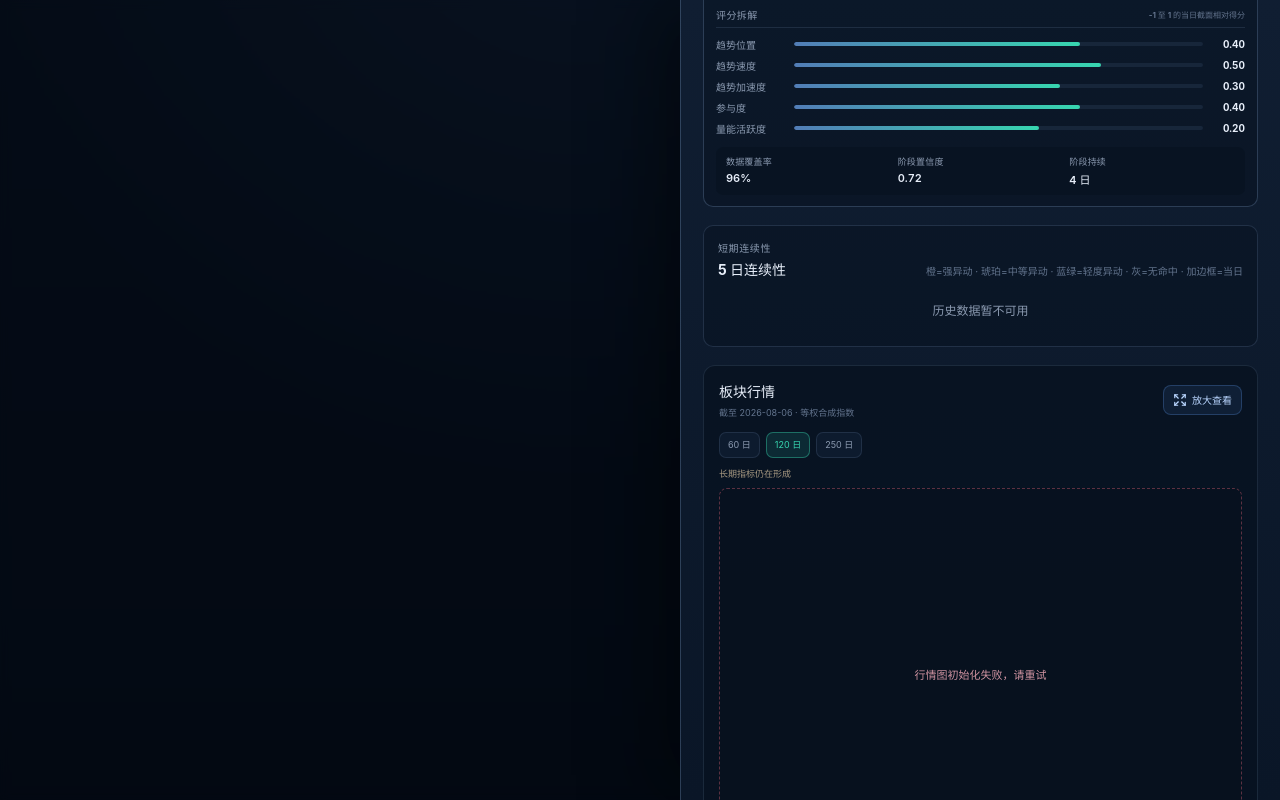
Test: SectorDetailDrawer K 线组合 › 真实卡片将同一份缓存响应交给 Portal 弹窗，不新增第二次行情请求
The width and height of the screenshot is (1280, 800).
(page scrolled)
Click the button with aria-label "放大查看半导体行情".
click(1202, 400)  # box [1163,385,1242,415]
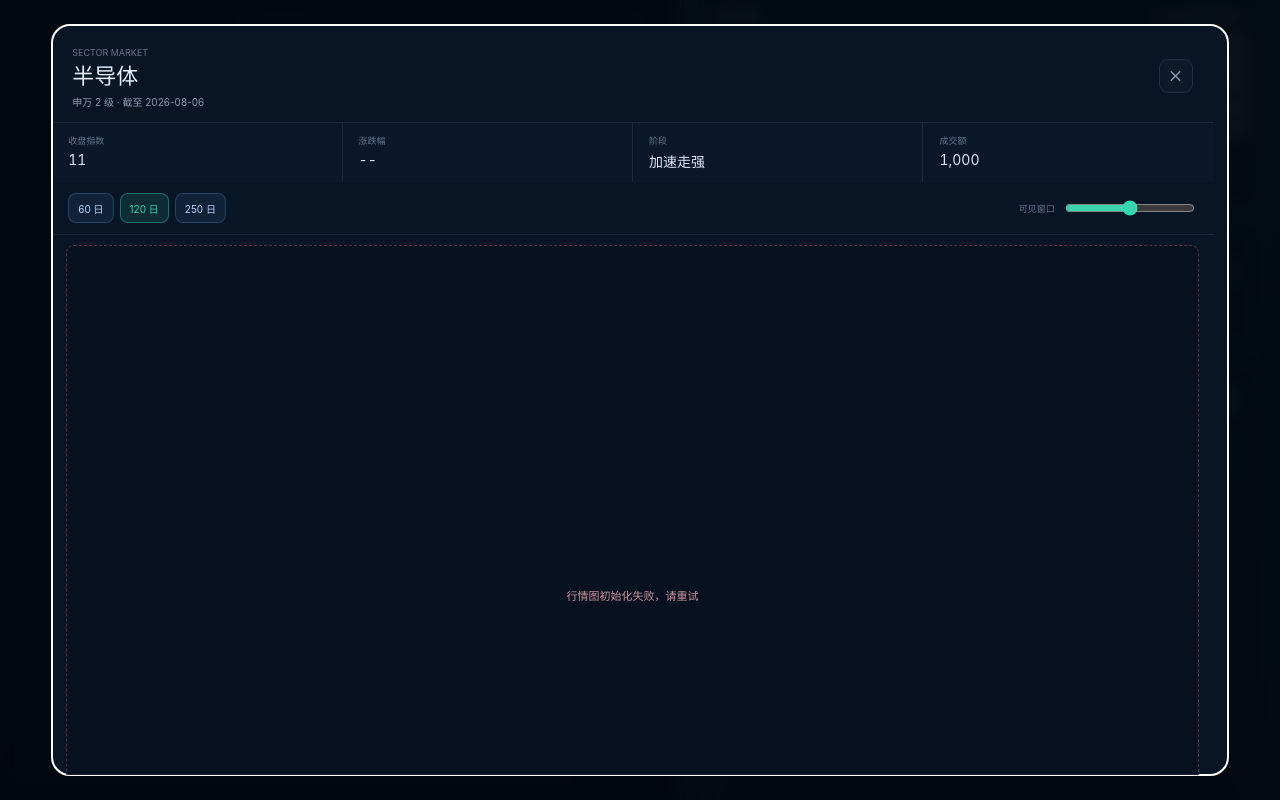
expect the text "收盘指数" is shown: met, box [68,135,104,146]
expect the text "11" is shown: met, box [68,151,86,168]
